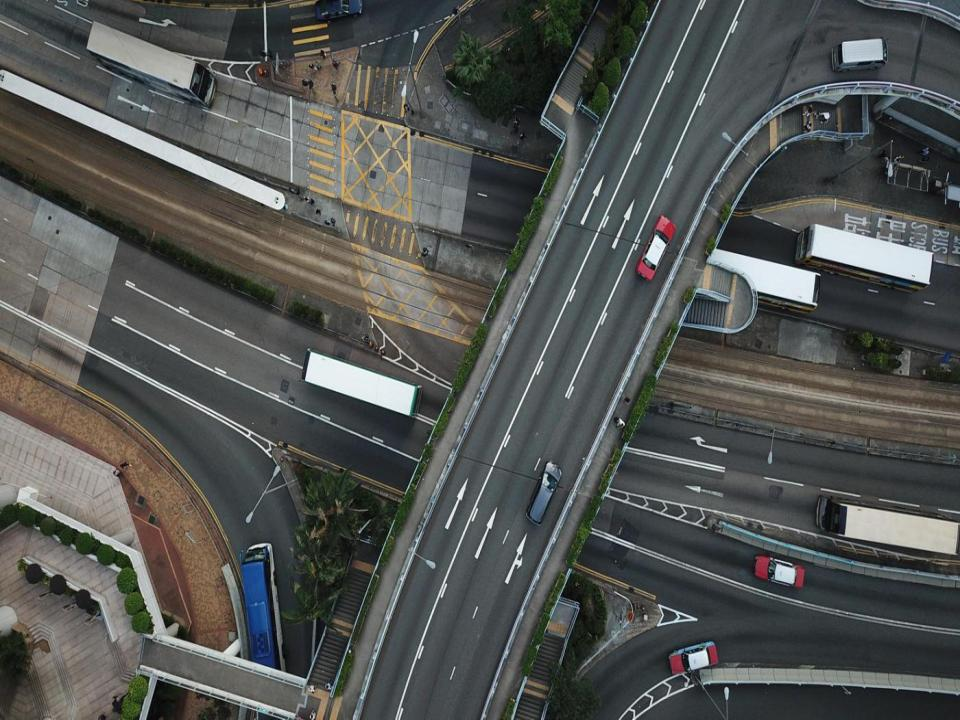bus: (85, 13, 221, 112), (814, 492, 960, 563), (796, 225, 933, 295), (298, 349, 426, 418), (702, 249, 820, 315), (241, 541, 280, 686)
car: (636, 213, 677, 283), (523, 461, 561, 526), (752, 555, 806, 593), (667, 639, 726, 673)
van: (830, 36, 890, 71)
